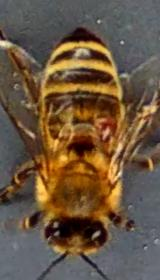varroa_mite: (84, 110, 126, 142)
